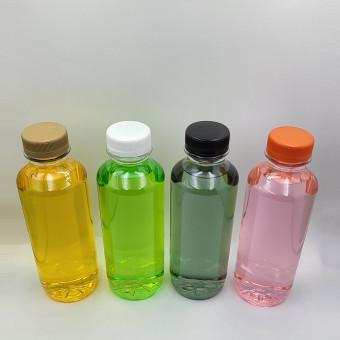bottle: (230, 126, 316, 307), (15, 124, 100, 305), (170, 116, 240, 296), (96, 121, 165, 301)
